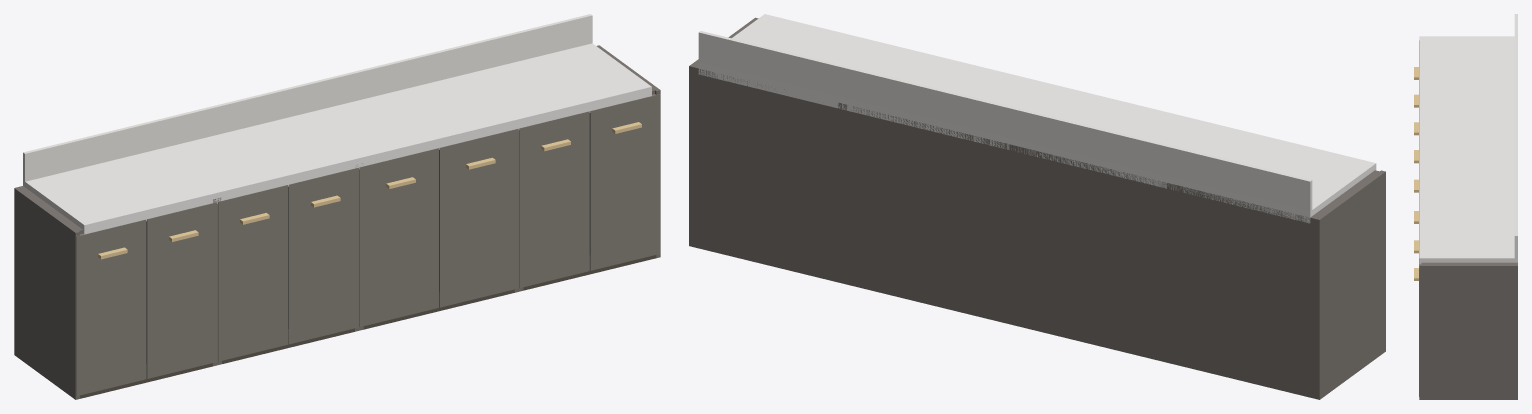
3 views of the same model, side by side, from view 1: azimuth 30°, elevation 25°; view 2: azimuth 150°, elevation 25°; view 3: azimuth 270°, elevation 25° (orthographic). The views are drawn at different scales.
Visible parts, largest first — view 1: Countertop, Backsplash, Lower_Cabinet_Sink_Door_Left, Lower_Cabinet_Sink_Door_Right, Lower_Cabinet_4_Door_Right, Lower_Cabinet_1_Door_Right, Lower_Cabinet_1_Door_Left, Lower_Cabinet_2_Door_Left, Lower_Cabinet_4_Door_Left, Lower_Cabinet_2_Door_Right, Lower_Cabinet_1_Left_Side, Lower_Cabinet_Sink_Toe_Kick (+3 smaller); view 2: Lower_Cabinet_Sink_Back, Countertop, Lower_Cabinet_1_Back, Lower_Cabinet_2_Back, Lower_Cabinet_4_Back, Backsplash, Lower_Cabinet_1_Left_Side, Lower_Cabinet_Sink_Left_Side, Lower_Cabinet_4_Left_Side, Lower_Cabinet_Sink_Right_Side, Lower_Cabinet_2_Left_Side, Lower_Cabinet_4_Right_Side (+1 smaller); view 3: Countertop, Lower_Cabinet_4_Right_Side, Backsplash, Lower_Cabinet_4_Back, Lower_Cabinet_4_Top, Lower_Cabinet_4_Door_Right.
Part boxes in pixels (x1,y1,x2,y2): Countertop: (23, 43, 651, 234); Backsplash: (23, 14, 592, 181); Lower_Cabinet_Sink_Door_Left: (359, 148, 438, 326); Lower_Cabinet_Sink_Door_Right: (439, 128, 518, 307); Lower_Cabinet_4_Door_Right: (589, 94, 660, 270); Lower_Cabinet_1_Door_Right: (146, 202, 217, 378); Lower_Cabinet_1_Door_Left: (76, 219, 146, 396); Lower_Cabinet_2_Door_Left: (218, 185, 288, 361); Lower_Cabinet_4_Door_Left: (519, 111, 589, 287); Lower_Cabinet_2_Door_Right: (288, 167, 358, 344); Lower_Cabinet_1_Left_Side: (14, 187, 79, 399); Lower_Cabinet_Sink_Toe_Kick: (363, 289, 514, 329); Lower_Cabinet_Sink_Back: (842, 105, 1013, 323); Countertop: (698, 14, 1376, 223); Lower_Cabinet_1_Back: (1167, 183, 1321, 399); Lower_Cabinet_2_Back: (1014, 145, 1166, 362); Lower_Cabinet_4_Back: (689, 65, 841, 282); Backsplash: (698, 31, 1312, 211); Lower_Cabinet_1_Left_Side: (1315, 170, 1385, 399); Lower_Cabinet_Sink_Left_Side: (1009, 144, 1013, 325); Lower_Cabinet_4_Left_Side: (837, 102, 841, 283); Lower_Cabinet_Sink_Right_Side: (842, 104, 846, 284); Lower_Cabinet_2_Left_Side: (1162, 182, 1166, 361); Lower_Cabinet_4_Right_Side: (689, 17, 758, 246); Countertop: (1419, 36, 1517, 264); Lower_Cabinet_4_Right_Side: (1419, 264, 1517, 399); Backsplash: (1514, 14, 1517, 258); Lower_Cabinet_4_Back: (1513, 262, 1517, 399); Lower_Cabinet_4_Top: (1421, 262, 1515, 264); Lower_Cabinet_4_Door_Right: (1419, 242, 1419, 396).
Bounding box in the file's own units: 3.3 × 1.08 × 0.6325.
